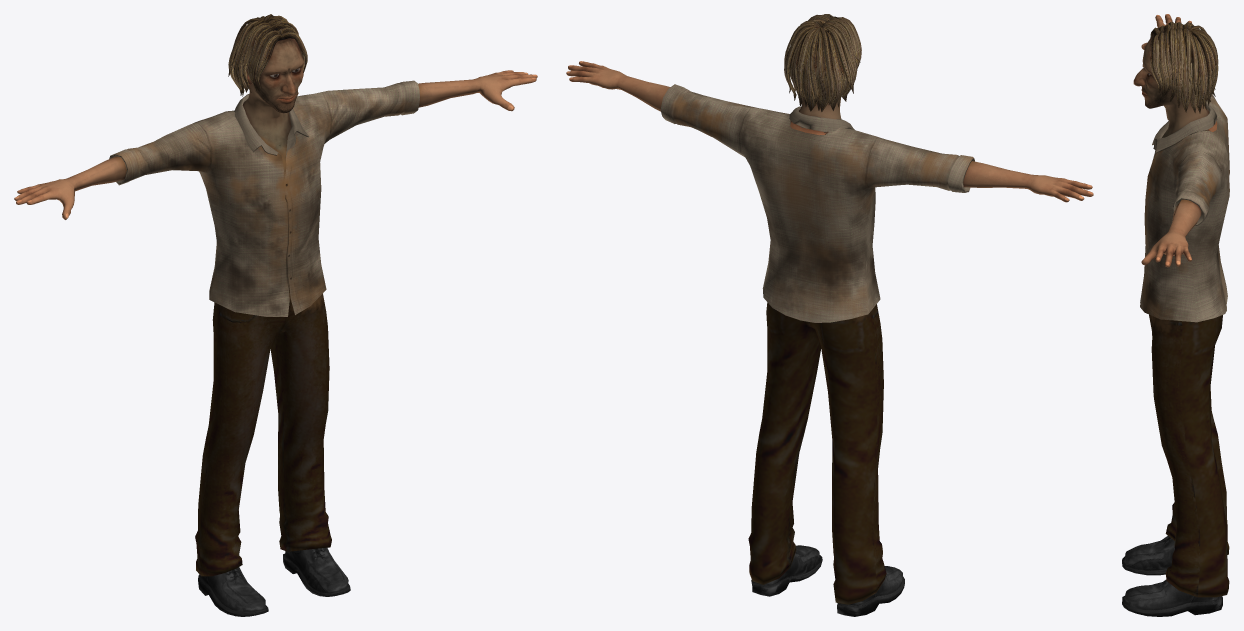
Rendered from customer03.fbx.fbx.
3 views of the same model, side by side, from view 1: azimuth 30°, elevation 25°; view 2: azimuth 150°, elevation 25°; view 3: azimuth 270°, elevation 25° (orthographic).
Visible parts, largest first — view 1: char4; view 2: char4; view 3: char4.
Part boxes in pixels (x1,y1,x2,y2): char4: [14, 14, 537, 616]; char4: [566, 14, 1093, 616]; char4: [1122, 14, 1229, 616].
Bounding box in the file's own units: 1.68 × 1.75 × 0.3055.
Materials: 1 (1 with a texture image).
